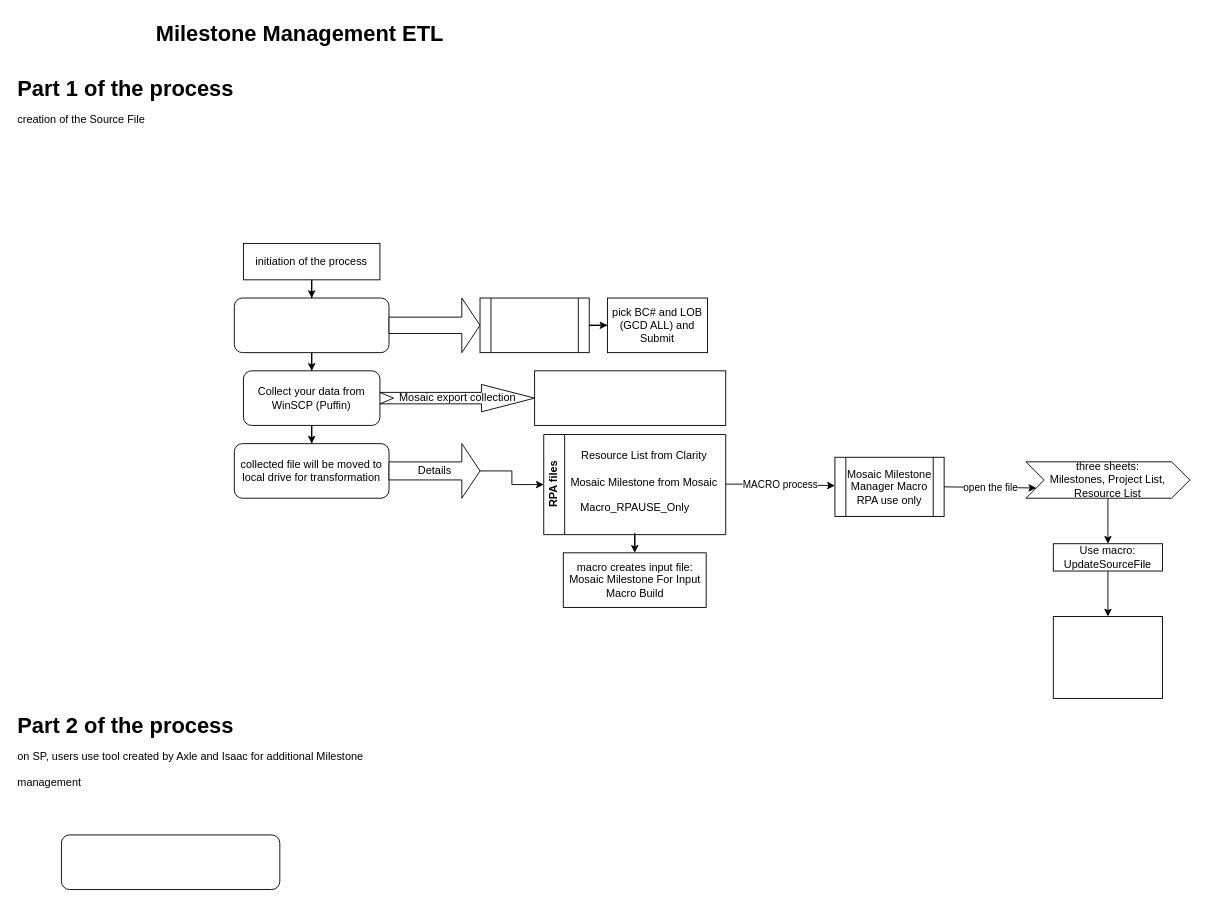
Image size: 1206x905. Some labels were removed from this diagram. Here are the shapes that lost their labels. From the top down, the centre of each, then its label:
At (x=311, y=325): "Mosaic Schedule process: PPD Milestone Editor".
At (x=434, y=325): "how to trigger".
At (x=534, y=325): "Mosaic / schedule process".
At (x=630, y=397): "file location: i180_me_p/PROD/source".
At (x=1107, y=657): "produced file file is used by Manila team, done on daily bases after 18:00".
At (x=170, y=862): "Ops Finance Library/Billing/Milestone Manager v1.34.xlsm".
